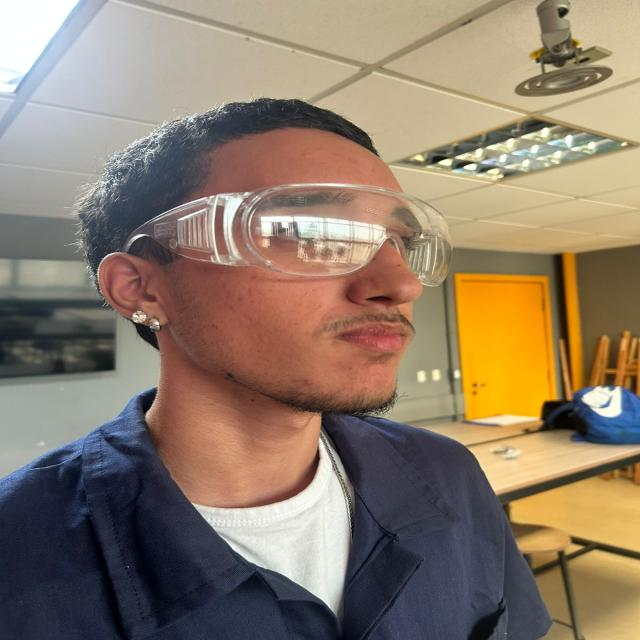oculos-epi: (116, 181, 454, 289)
